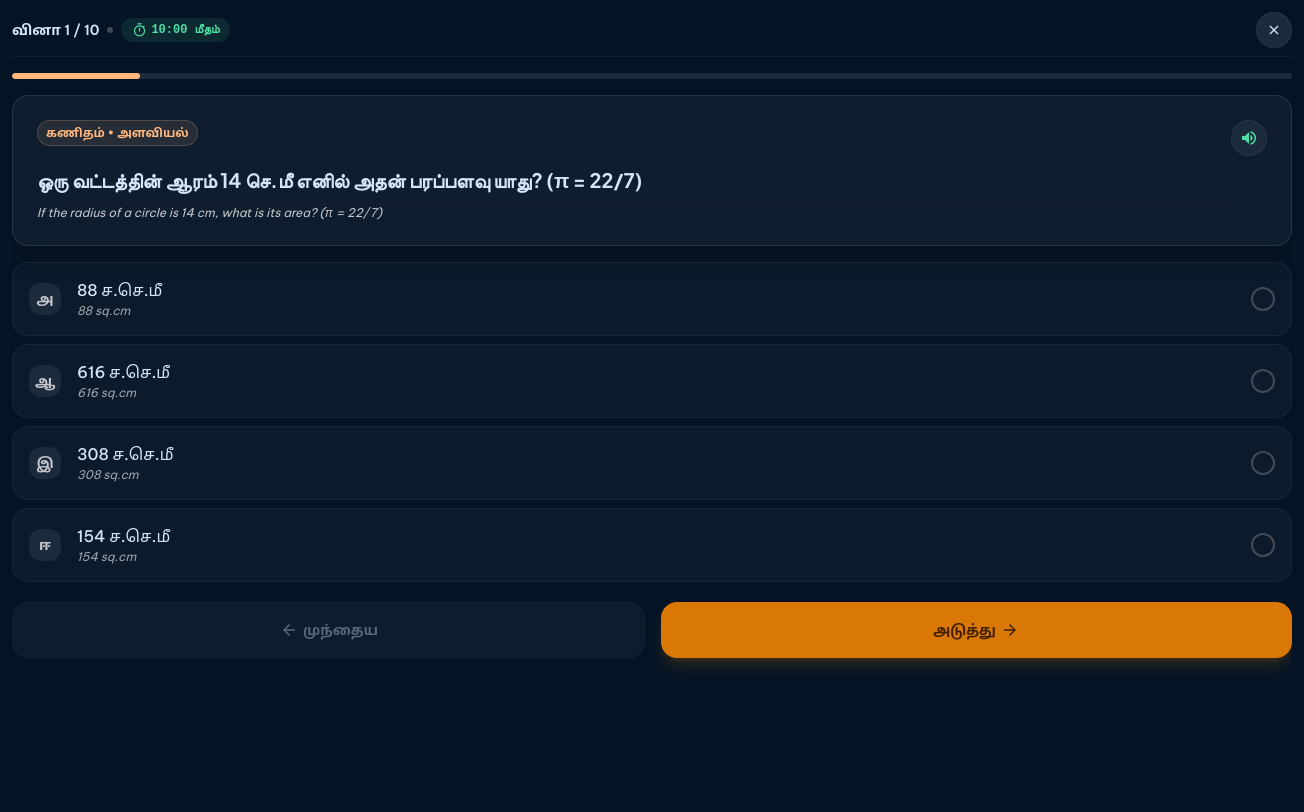
Test: Milestone 3 Challenger: Daily Quiz & Home Empirical Stress Tests › 2. Explanation Card Rendering › renders explanation card with lightbulb icon and detailed text immediately upon answer
Click the button with test id "option-A": (45, 298) [12,262,1292,336]
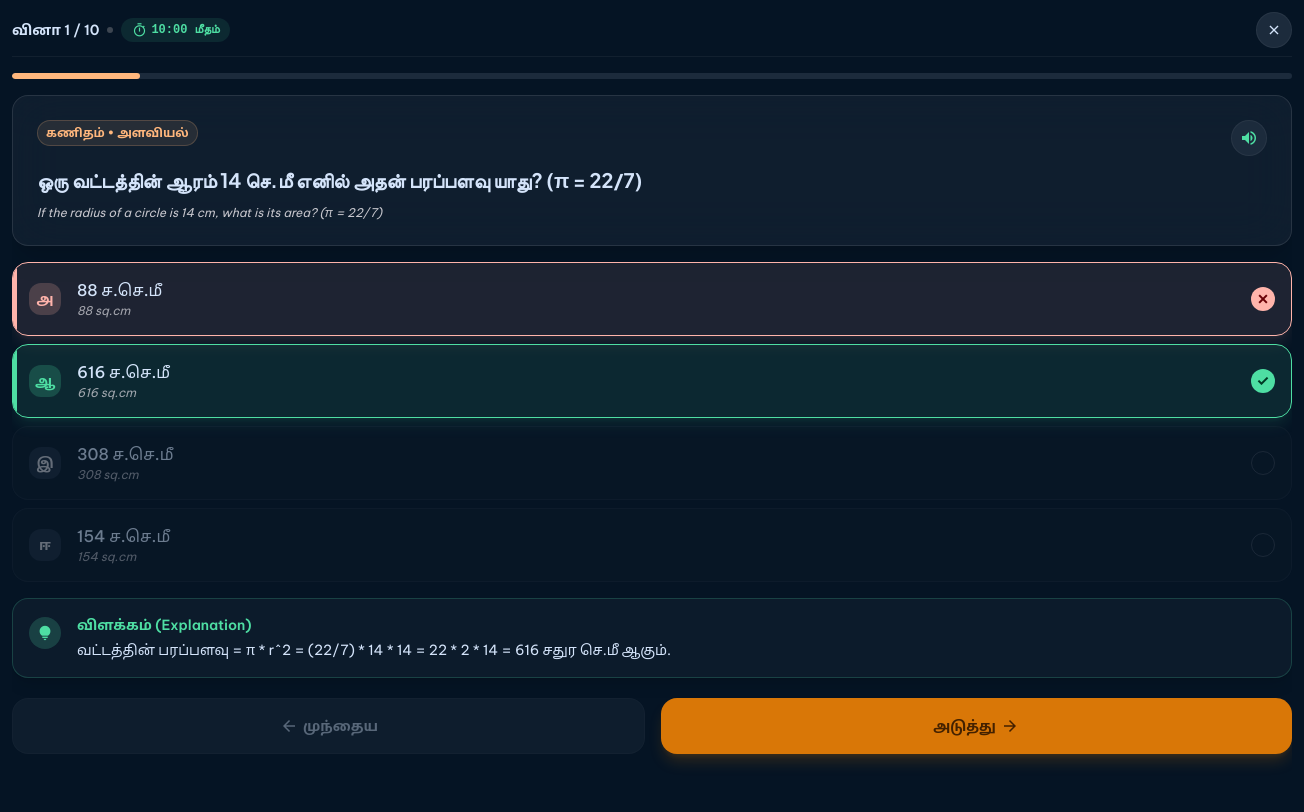
Now the element labelled "Explanation" is shown, box [12,598,1292,678]
Now the text "விளக்கம் (Explanation)" is shown, box [77,616,252,634]
Now the text "வட்டத்தின் பரப்பளவு = π * r^2 = (22/7) * 14 * 14 = 22 * 2 * 14 = 616 சதுர செ.மீ ஆகும்." is shown, box [77,640,671,658]
